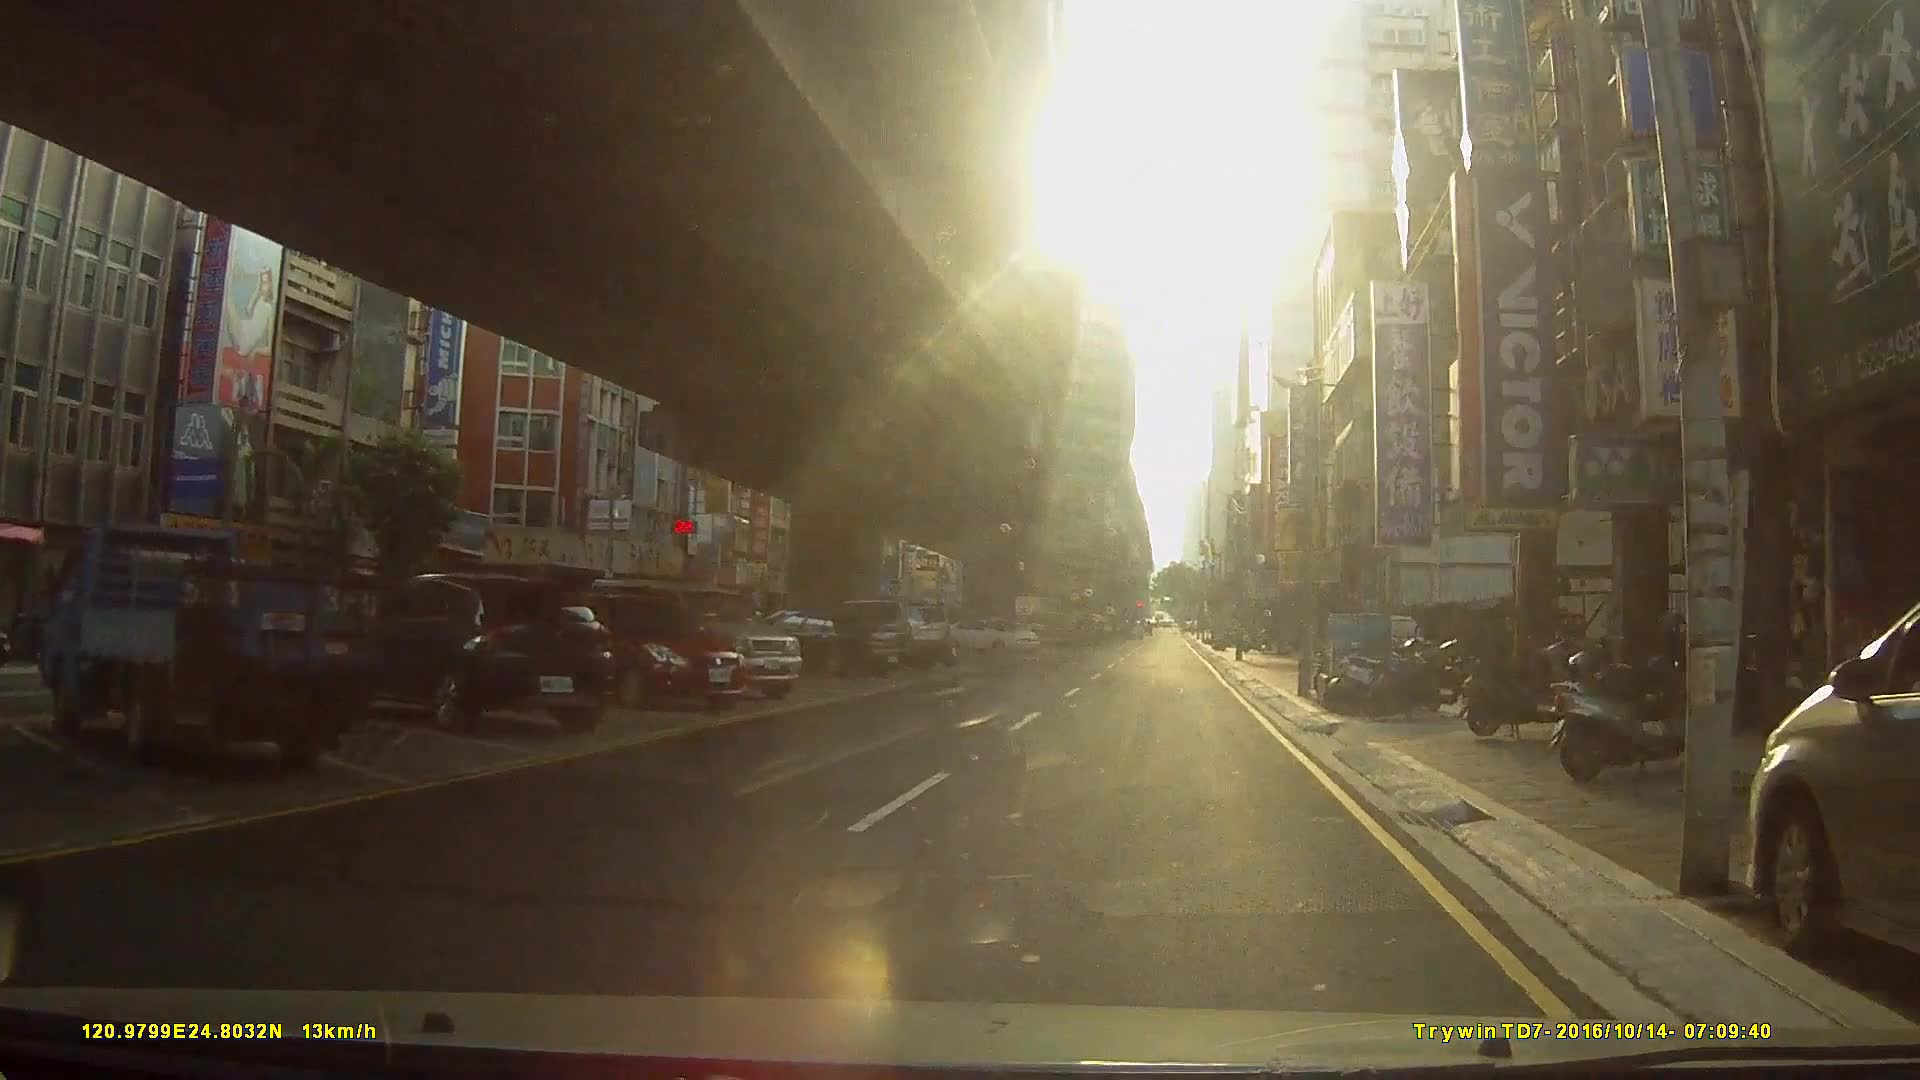vehicle: (33, 522, 386, 773), (1746, 597, 1920, 976), (347, 571, 611, 732), (585, 575, 803, 700), (546, 588, 749, 712), (733, 605, 902, 674), (814, 596, 955, 667), (947, 615, 1040, 654)
